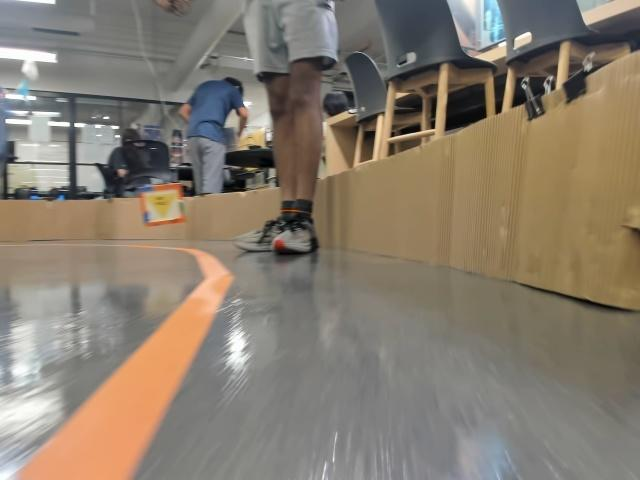Do Not Yield: (146, 195, 172, 217)
